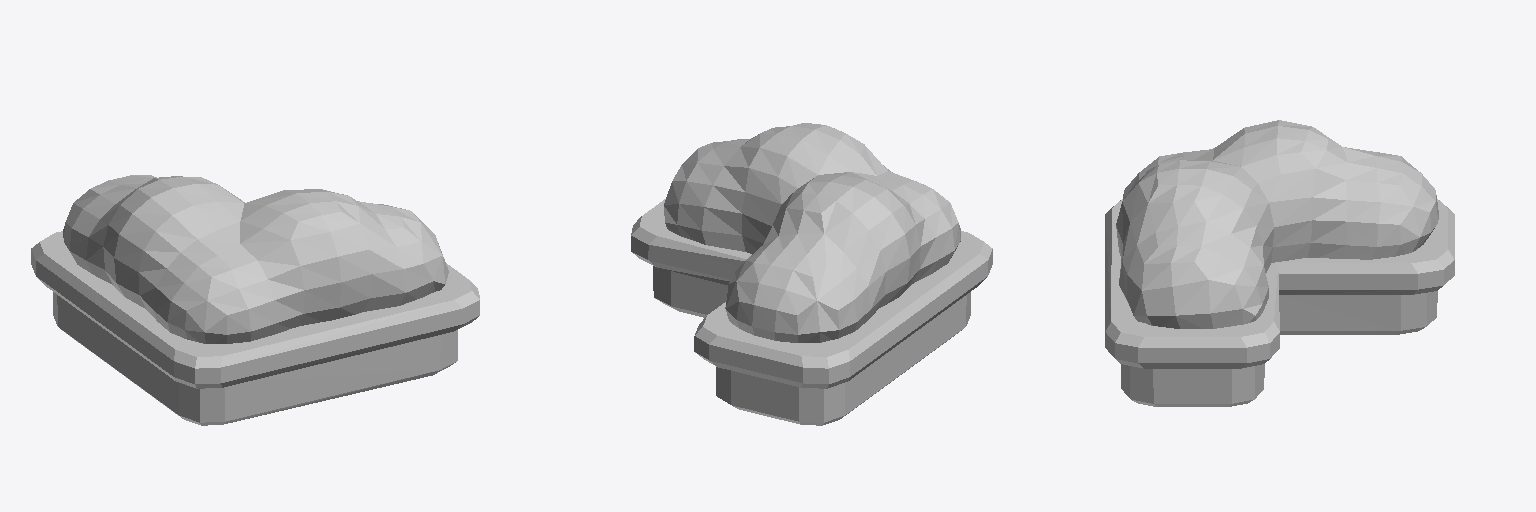
The model's file is flower_box_corner.obj.
3 renders of one model, left to right at view 1: azimuth 30°, elevation 25°; view 2: azimuth 150°, elevation 25°; view 3: azimuth 270°, elevation 25°, orthographic.
Parts seen in each view (by area): view 1: flower_box_corner; view 2: flower_box_corner; view 3: flower_box_corner.
Boxes of the visible parts, x1,y1,x2,y2 form: flower_box_corner: [31, 175, 479, 425]; flower_box_corner: [631, 123, 992, 425]; flower_box_corner: [1105, 120, 1454, 406].
Size of the model in its own units: 2 by 1.12 by 2.